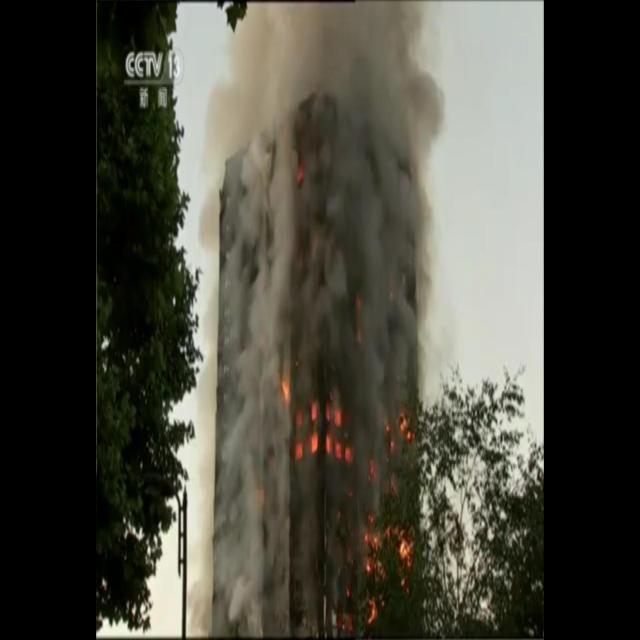Fire: (362, 511, 415, 626), (282, 381, 352, 464), (397, 407, 417, 443)
Smoke: (203, 1, 444, 379)
